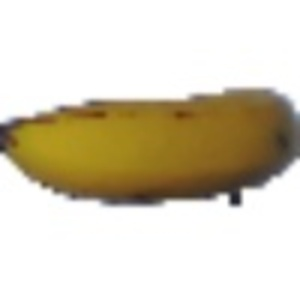banana: (3, 80, 297, 206)
